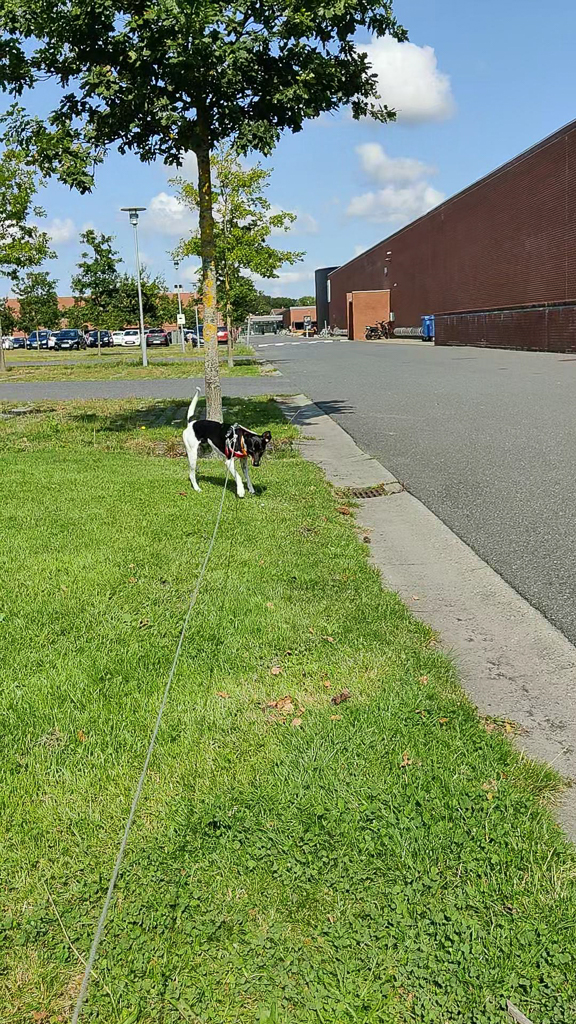Dog: (170, 380, 284, 508)
